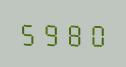eight: (62, 19, 83, 47)
five: (18, 19, 39, 46)
nine: (40, 19, 61, 46)
zero: (84, 20, 105, 47)
